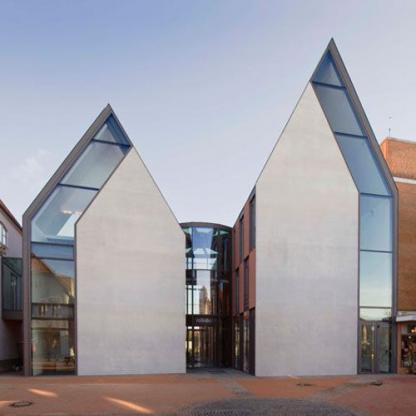Building Outline: (2, 36, 399, 377)
Door: (359, 321, 375, 374)
Facade: (2, 36, 399, 377)
Floor Slab: (31, 242, 186, 269), (31, 303, 186, 326), (187, 315, 232, 327), (186, 270, 231, 281), (3, 310, 24, 320)
Glass Wall: (31, 113, 131, 377), (312, 50, 393, 373), (181, 227, 231, 368)
Window: (3, 259, 22, 309), (250, 308, 255, 375), (250, 196, 255, 251), (240, 313, 244, 370), (245, 257, 249, 311), (240, 216, 244, 262)
